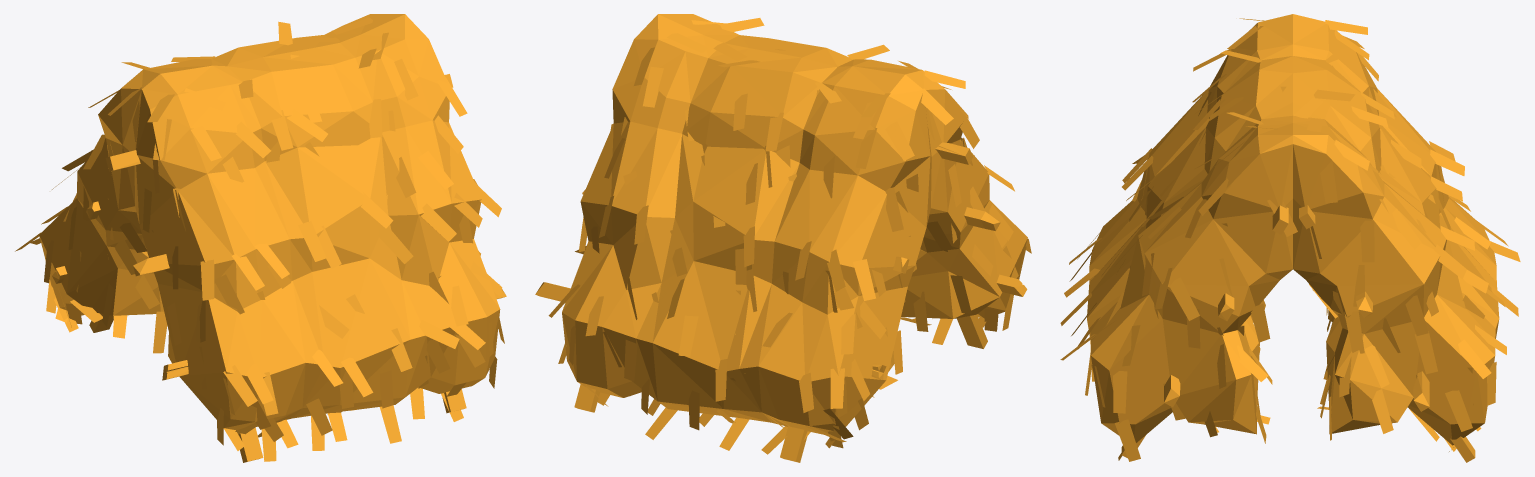
File: SM_Hay_Drying_Rack_Square_D.fbx
3 views of the same model, side by side, from view 1: azimuth 30°, elevation 25°; view 2: azimuth 150°, elevation 25°; view 3: azimuth 270°, elevation 25° (orthographic).
Visible parts, largest first — view 1: hay-drying-rack-square-d; view 2: hay-drying-rack-square-d; view 3: hay-drying-rack-square-d.
Part boxes in pixels (x1,y1,x2,y2): hay-drying-rack-square-d: [15, 14, 506, 462]; hay-drying-rack-square-d: [535, 14, 1031, 462]; hay-drying-rack-square-d: [1060, 14, 1520, 462].
Size of the model in its own units: 2.04 by 1.83 by 2.25.
